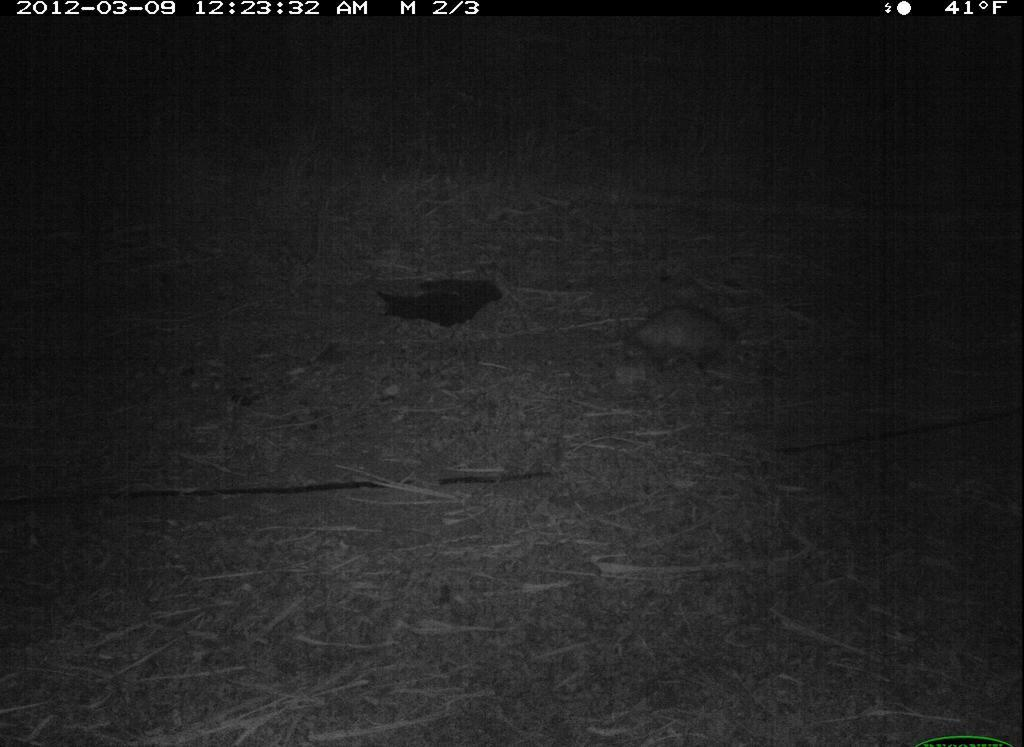opossum: (602, 300, 751, 385)
